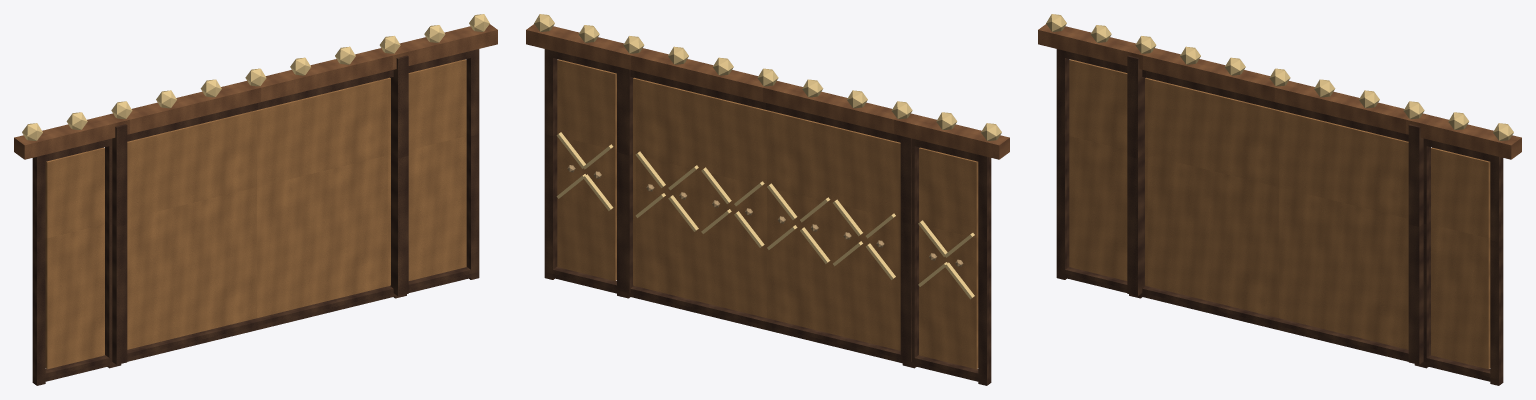
Rendered from gebyok_ukir_jawa.glb.
3 views of the same model, side by side, from view 1: azimuth 30°, elevation 25°; view 2: azimuth 150°, elevation 25°; view 3: azimuth 330°, elevation 25° (orthographic).
Parts seen in each view (by area): view 1: GEBYOK_CENTER_infill, GEBYOK_WING_-2_infill, GEBYOK_WING_2_infill, GEBYOK_CROWN, GEBYOK_STILE_2.14, GEBYOK_STILE_-2.14, GEBYOK_CENTER_frame_bottom, GEBYOK_WING_-2_post_-1, GEBYOK_WING_2_post_1, GEBYOK_CENTER_frame_top, GEBYOK_WING_-2_post_1, GEBYOK_WING_-2_frame_bottom (+3 smaller); view 2: GEBYOK_CENTER_infill, GEBYOK_WING_-2_infill, GEBYOK_WING_2_infill, GEBYOK_CROWN, GEBYOK_CENTER_frame_bottom, GEBYOK_WING_-2_post_-1, GEBYOK_STILE_2.14, GEBYOK_WING_2_post_1, GEBYOK_STILE_-2.14, GEBYOK_CENTER_frame_top, GEBYOK_WING_-2_post_1, GEBYOK_WING_2_frame_bottom (+4 smaller); view 3: GEBYOK_CENTER_infill, GEBYOK_WING_2_infill, GEBYOK_WING_-2_infill, GEBYOK_CROWN, GEBYOK_STILE_-2.14, GEBYOK_STILE_2.14, GEBYOK_CENTER_frame_bottom, GEBYOK_WING_2_post_1, GEBYOK_WING_-2_post_-1, GEBYOK_CENTER_frame_top, GEBYOK_WING_2_post_-1, GEBYOK_WING_2_frame_bottom (+3 smaller).
Part boxes in pixels (x1,y1,x2,y2): GEBYOK_CENTER_infill: (127, 77, 390, 349); GEBYOK_WING_-2_infill: (45, 147, 104, 369); GEBYOK_WING_2_infill: (408, 59, 466, 280); GEBYOK_CROWN: (14, 24, 497, 159); GEBYOK_STILE_2.14: (390, 55, 408, 296); GEBYOK_STILE_-2.14: (112, 124, 127, 364); GEBYOK_CENTER_frame_bottom: (127, 286, 396, 361); GEBYOK_WING_-2_post_-1: (32, 155, 45, 385); GEBYOK_WING_2_post_1: (466, 49, 479, 279); GEBYOK_CENTER_frame_top: (127, 70, 393, 141); GEBYOK_WING_-2_post_1: (105, 139, 112, 368); GEBYOK_WING_-2_frame_bottom: (41, 355, 109, 382); GEBYOK_CENTER_infill: (633, 77, 900, 350); GEBYOK_WING_-2_infill: (919, 147, 978, 369); GEBYOK_WING_2_infill: (557, 59, 616, 280); GEBYOK_CROWN: (526, 24, 1009, 159); GEBYOK_CENTER_frame_bottom: (624, 286, 906, 364); GEBYOK_WING_-2_post_-1: (978, 155, 991, 385); GEBYOK_STILE_2.14: (619, 67, 633, 293); GEBYOK_WING_2_post_1: (544, 49, 557, 279); GEBYOK_STILE_-2.14: (900, 136, 919, 361); GEBYOK_CENTER_frame_top: (630, 70, 900, 142); GEBYOK_WING_-2_post_1: (909, 139, 918, 368); GEBYOK_WING_2_frame_bottom: (548, 267, 619, 294); GEBYOK_CENTER_infill: (1145, 77, 1408, 349); GEBYOK_WING_2_infill: (1431, 147, 1490, 369); GEBYOK_WING_-2_infill: (1069, 59, 1127, 280); GEBYOK_CROWN: (1038, 24, 1521, 159); GEBYOK_STILE_-2.14: (1127, 55, 1145, 296); GEBYOK_STILE_2.14: (1408, 124, 1423, 364); GEBYOK_CENTER_frame_bottom: (1139, 286, 1408, 361); GEBYOK_WING_2_post_1: (1490, 155, 1503, 385); GEBYOK_WING_-2_post_-1: (1056, 49, 1069, 279); GEBYOK_CENTER_frame_top: (1142, 70, 1408, 141); GEBYOK_WING_2_post_-1: (1420, 139, 1430, 368); GEBYOK_WING_2_frame_bottom: (1426, 355, 1494, 382).
Size of the model in its own units: 7.2 by 3.79 by 0.315.
Materials: 5 (3 with a texture image).
